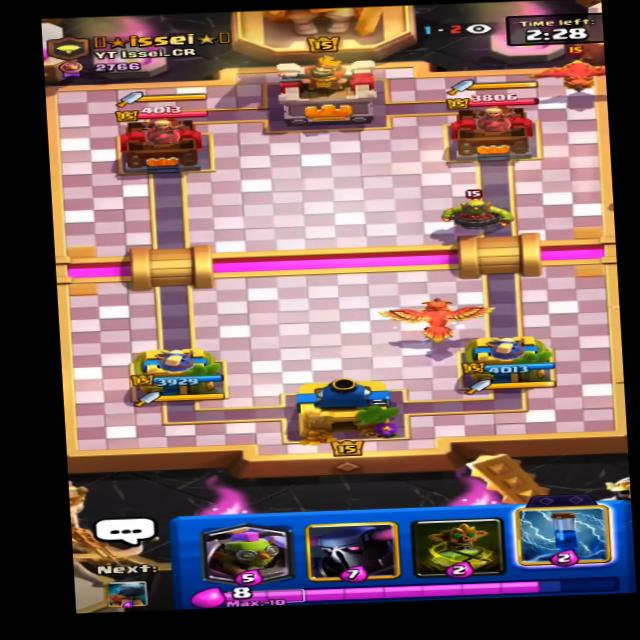goblin-demolisher: (437, 187, 520, 234)
phoenix: (527, 44, 634, 93)
